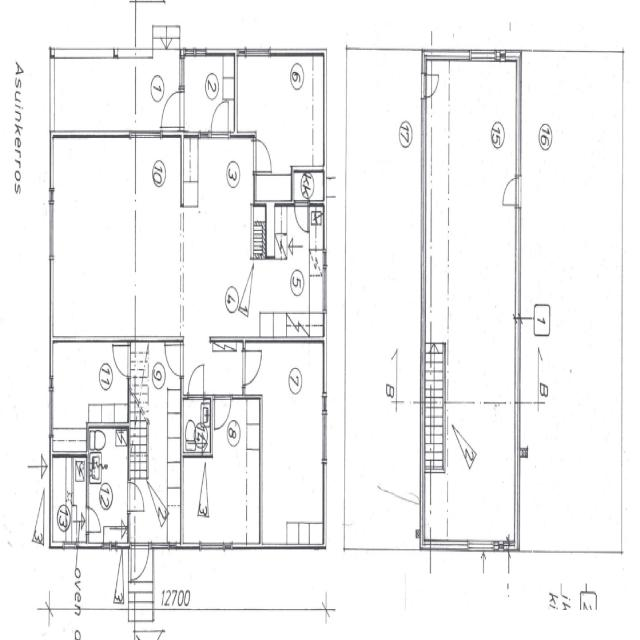door: (184, 362, 210, 453), (158, 86, 184, 135), (239, 342, 265, 389), (250, 133, 276, 178), (209, 96, 232, 140), (163, 338, 185, 380), (130, 539, 151, 582), (186, 360, 207, 401), (212, 392, 233, 432), (499, 174, 521, 210), (112, 340, 132, 379), (127, 478, 146, 514), (293, 200, 310, 235), (424, 69, 441, 100), (86, 504, 102, 536)
window: (510, 203, 524, 323), (44, 195, 56, 262), (319, 403, 330, 466), (197, 537, 232, 556), (466, 535, 495, 556), (46, 382, 56, 441), (468, 46, 500, 64), (320, 255, 329, 314)
zone: (518, 43, 622, 434), (438, 53, 517, 397), (52, 134, 136, 342), (254, 341, 326, 548), (181, 137, 252, 339), (249, 205, 327, 342), (234, 54, 325, 170), (196, 396, 262, 546), (134, 134, 182, 340), (447, 403, 517, 544), (51, 341, 129, 430), (88, 424, 129, 544), (183, 52, 236, 137), (51, 452, 87, 545), (182, 396, 212, 456)
